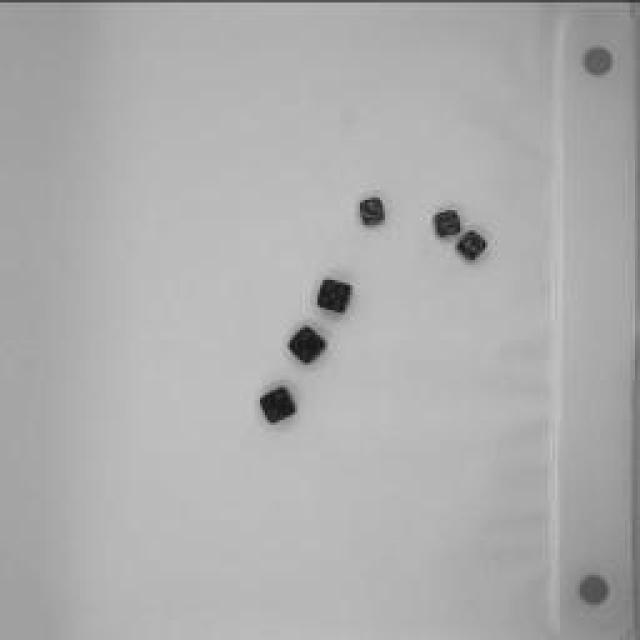dice_1: (452, 225, 492, 265)
dice_2: (255, 378, 303, 428), (284, 319, 328, 366), (354, 191, 388, 229)
dice_5: (311, 274, 359, 316)
dice_6: (425, 201, 465, 239)
